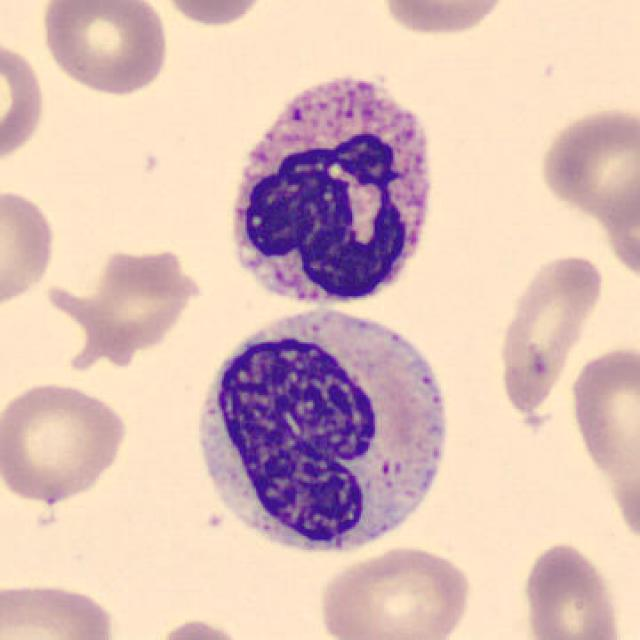Eosinophil: (212, 58, 448, 324)
Neutrophil: (183, 298, 462, 569)
RBC: (491, 248, 608, 428), (49, 242, 192, 374), (0, 377, 132, 508), (314, 541, 474, 640), (565, 340, 640, 531), (38, 0, 172, 97), (534, 102, 638, 224), (517, 537, 625, 640), (0, 576, 121, 640), (0, 183, 59, 314), (0, 35, 48, 171), (377, 0, 515, 37), (154, 0, 276, 30), (144, 615, 256, 640)
